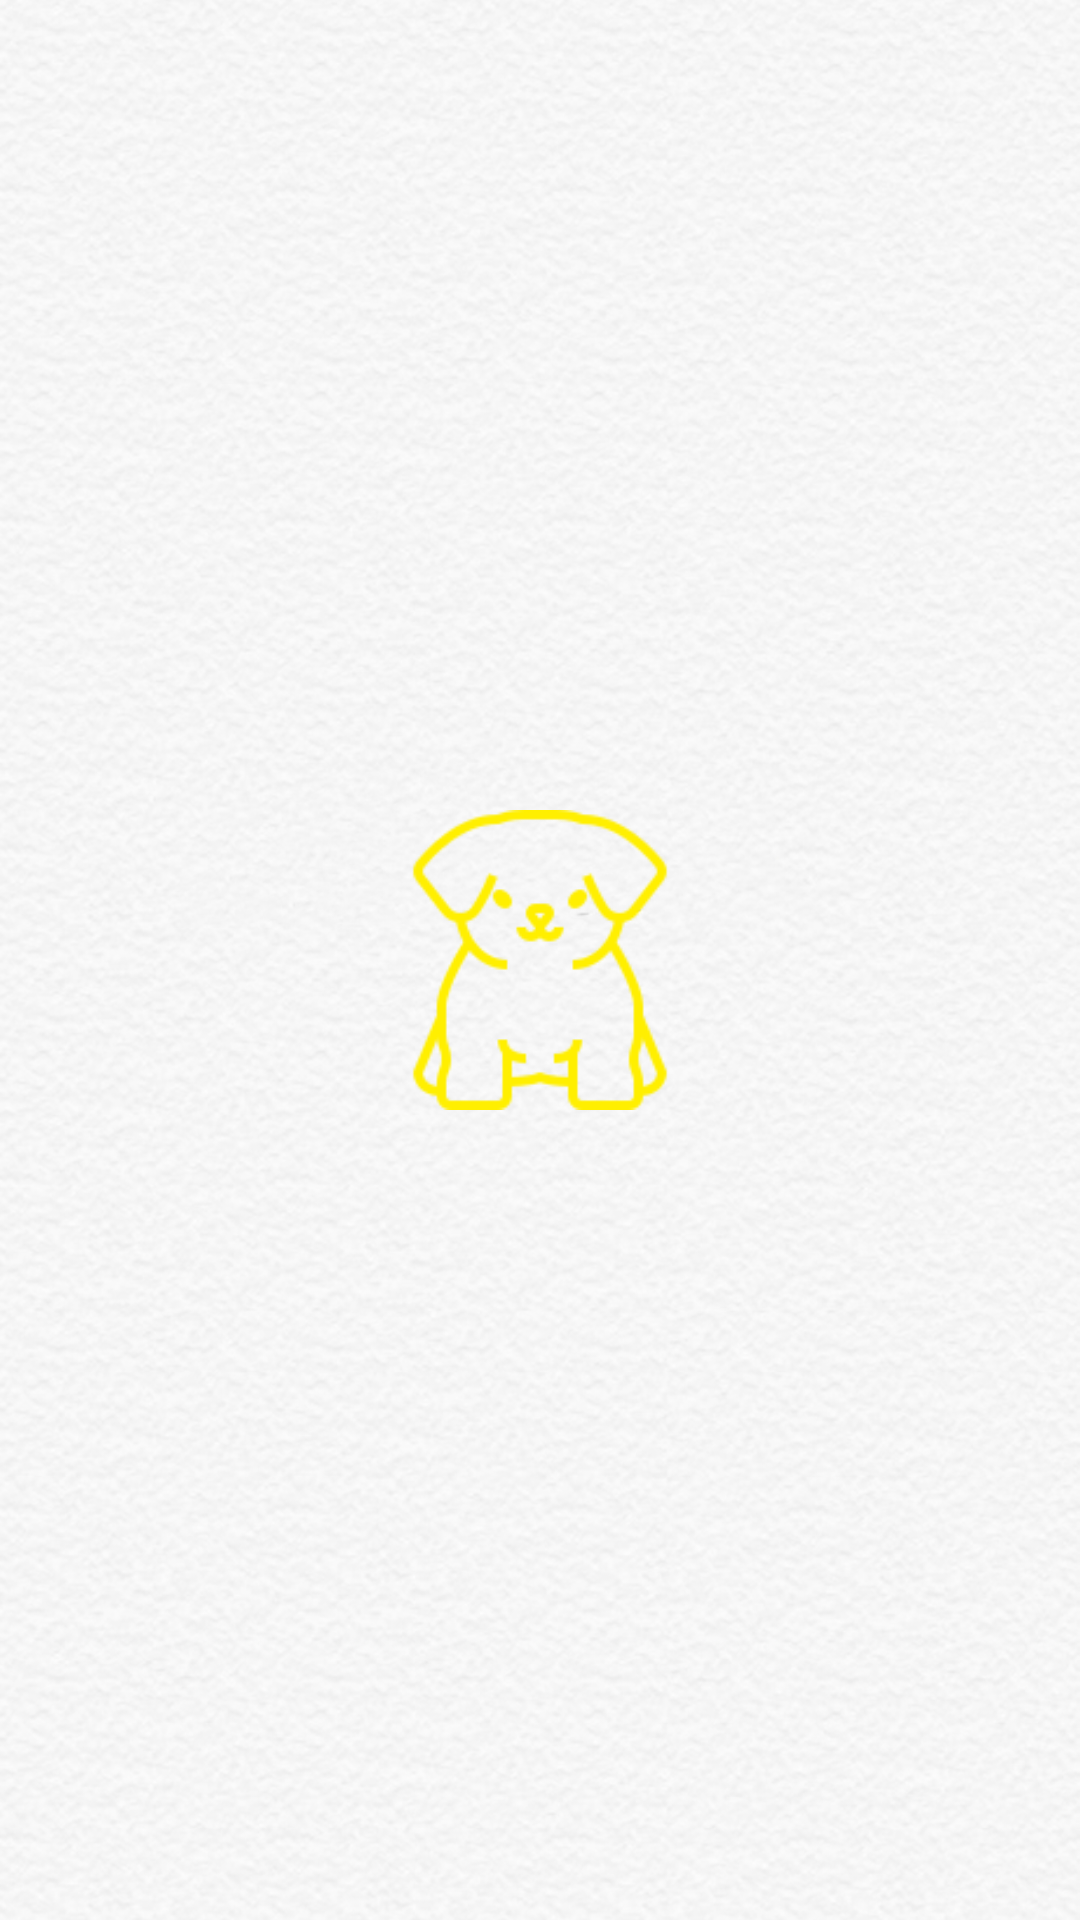

Where to tap for icons on this 1080*1920 app screen, as [x,y]:
puppy: [539,960]
